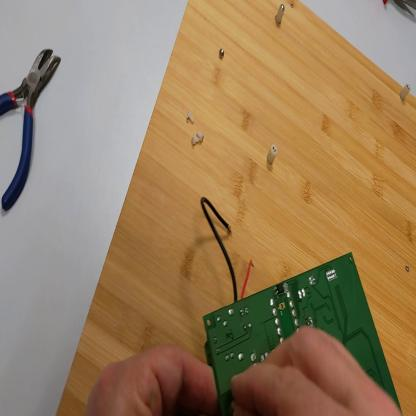hand: (233, 328, 403, 415), (87, 342, 221, 416)
low voltage board: (201, 198, 403, 416)
pliers: (2, 44, 60, 212)
